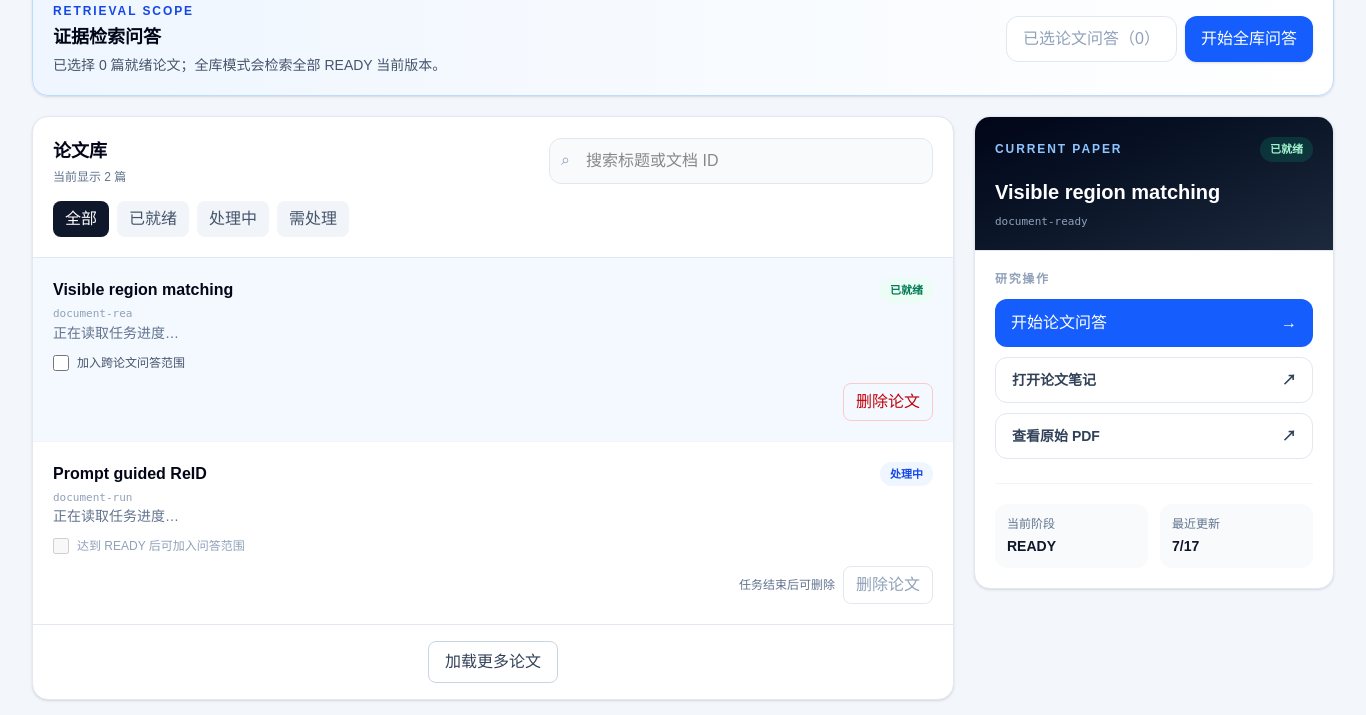
Test case: does not restore a deleted paper from a late pagination response
(page scrolled)
Click the button "加载更多论文": (493, 662) 428,641 -> 558,683
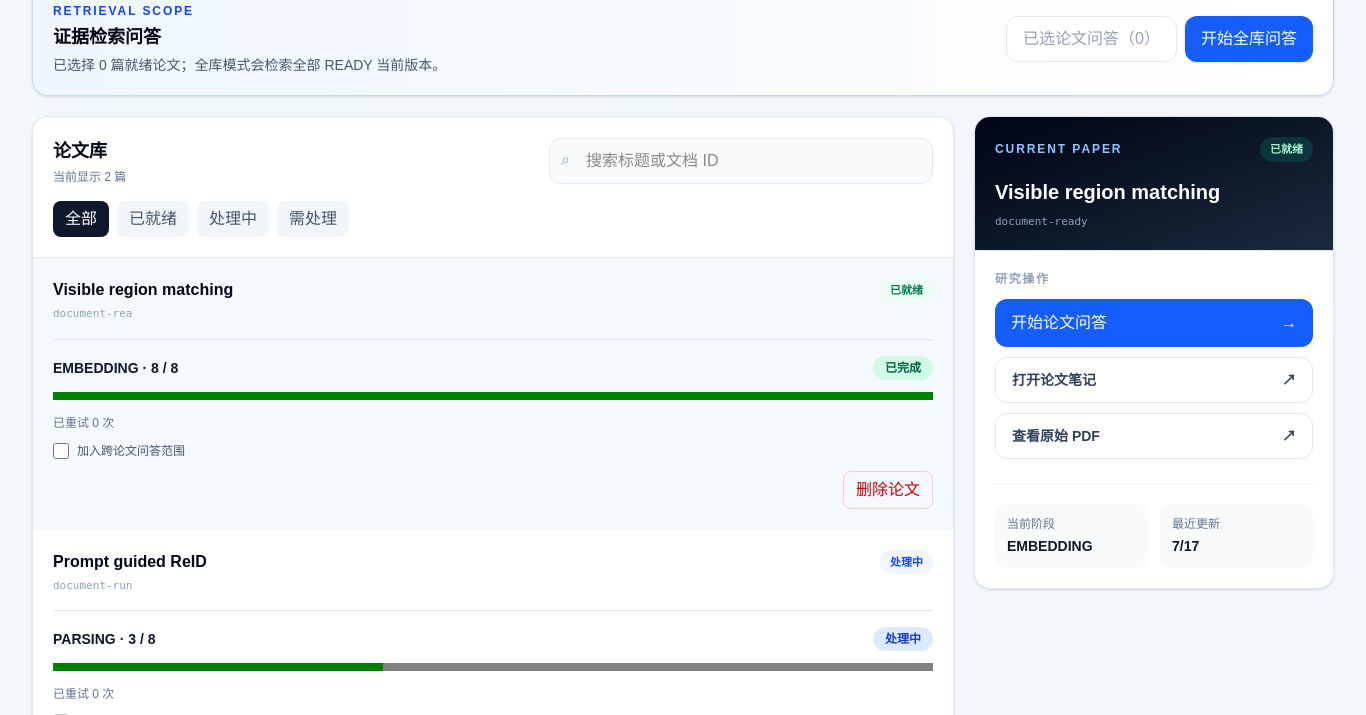
Click the button with aria-label "删除 Visible region matching": (888, 490) 843,470 -> 933,508
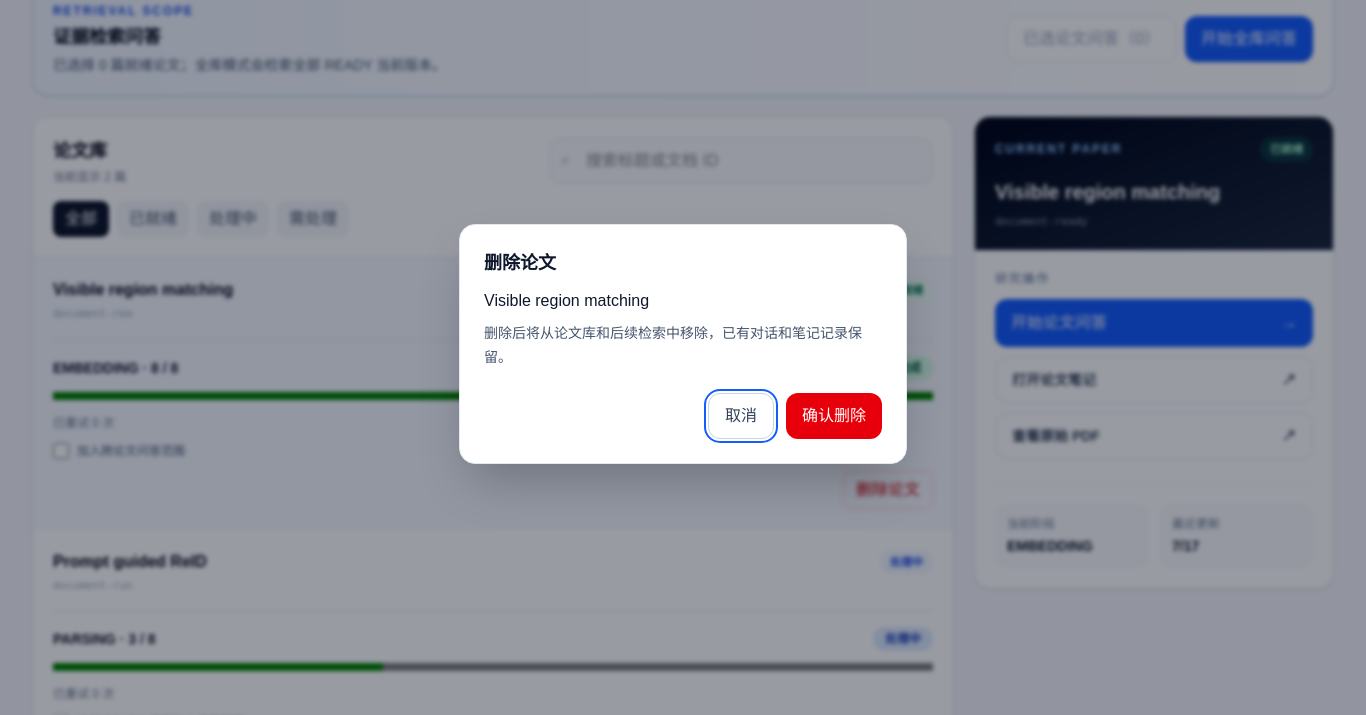
Click the button "确认删除": (834, 416) 786,393 -> 882,439
(page scrolled)
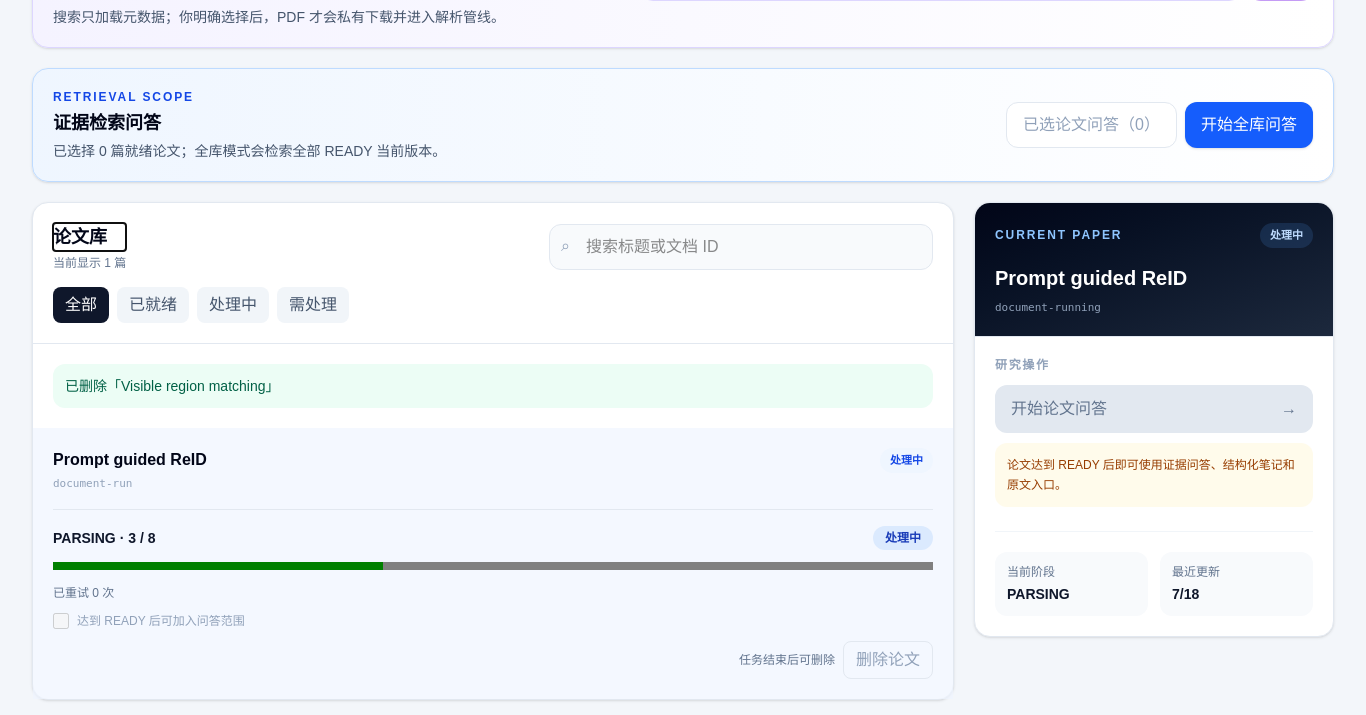
Check: the dialog is gone
